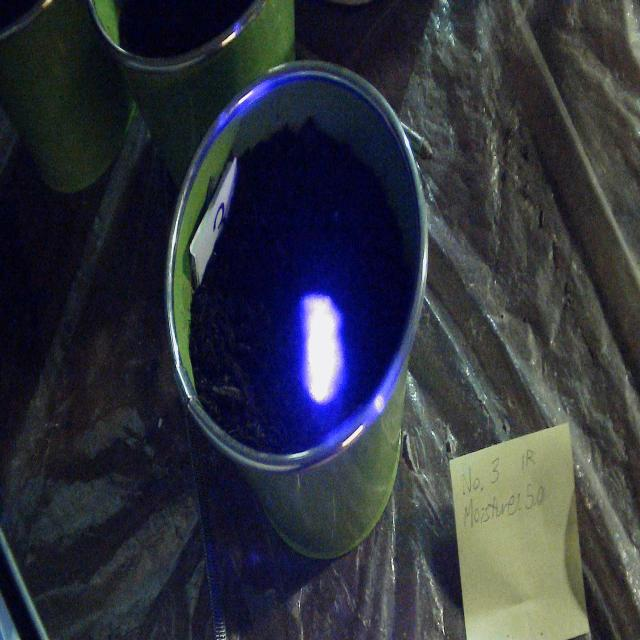soil-moisture-5.0: (299, 290, 348, 406)
